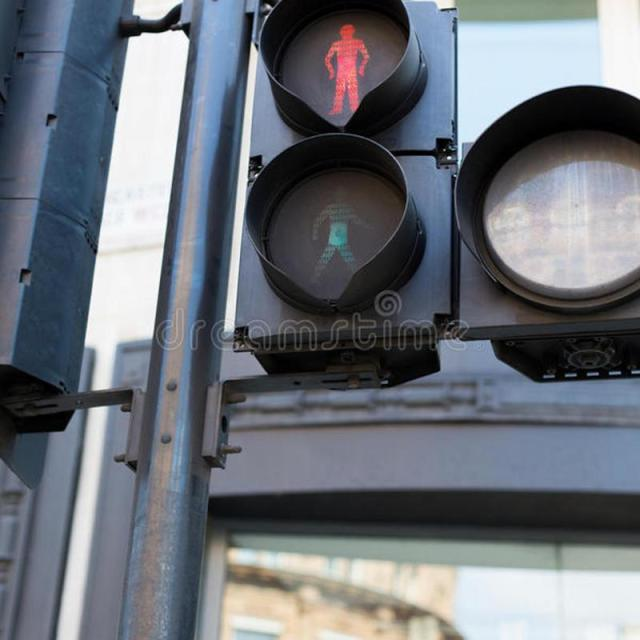red_light: (266, 7, 430, 138)
